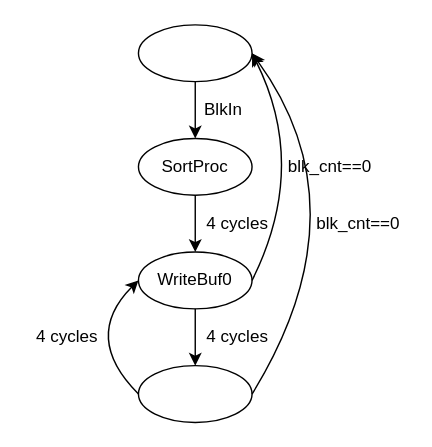
Image size: 432x447. Some labels were removed from this diagram. Each missing label, with the box of its shape:
IDLE: (137, 23, 252, 82)
WriteBuf1: (137, 364, 252, 422)
